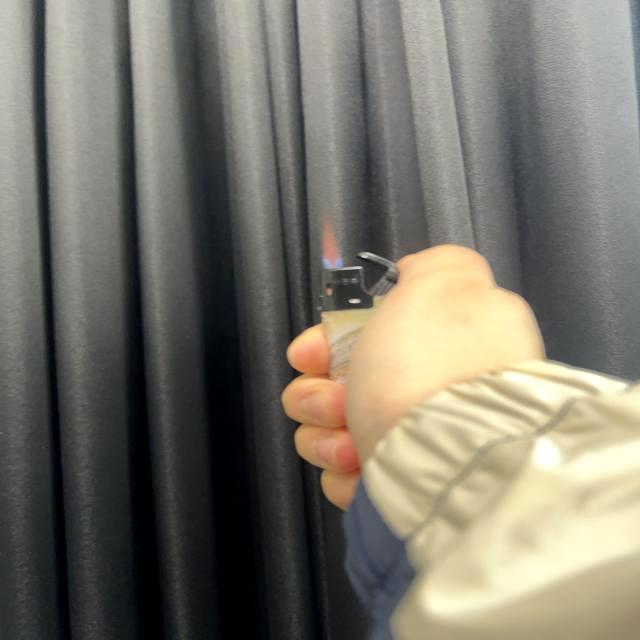fire: (318, 206, 346, 270)
